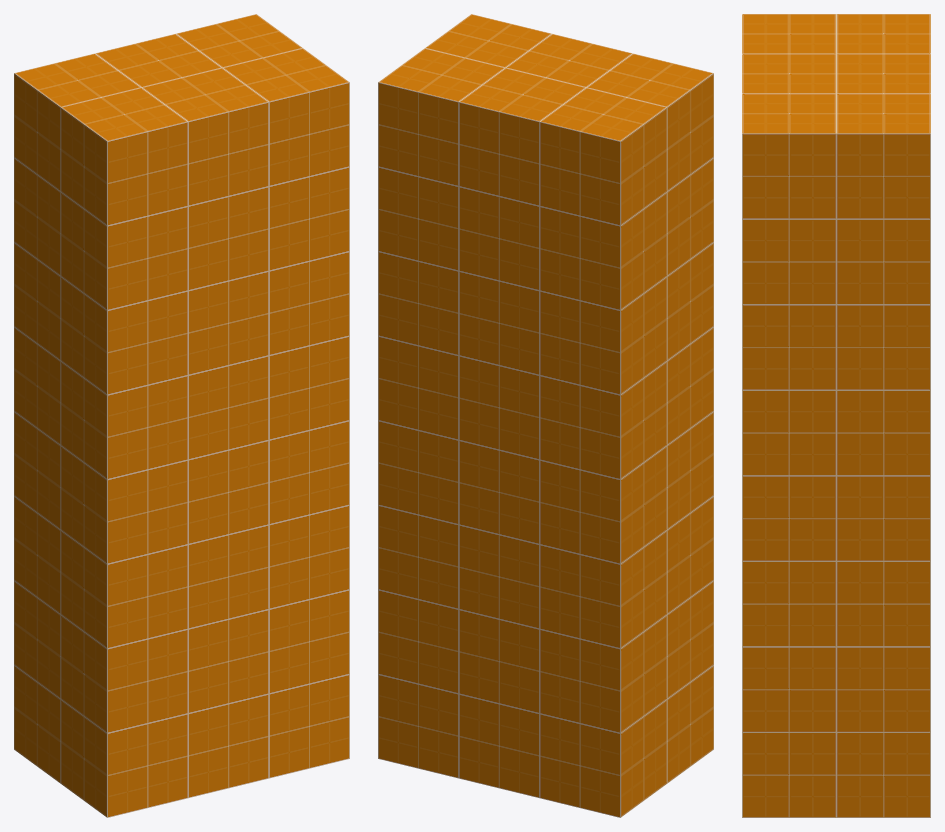
Rendered from Block_3x2x8.obj.
The picture shows the model from 3 angles, left to right: view 1: azimuth 30°, elevation 25°; view 2: azimuth 150°, elevation 25°; view 3: azimuth 270°, elevation 25°; orthographic projection.
Visible parts, largest first — view 1: Block_3x2x8_Cube.179; view 2: Block_3x2x8_Cube.179; view 3: Block_3x2x8_Cube.179.
Boxes of the visible parts, x1,y1,x2,y2 form: Block_3x2x8_Cube.179: [14, 14, 349, 817]; Block_3x2x8_Cube.179: [378, 14, 713, 817]; Block_3x2x8_Cube.179: [742, 14, 930, 817].
Size of the model in its own units: 3 by 8 by 2.
1 material, 1 textured.
